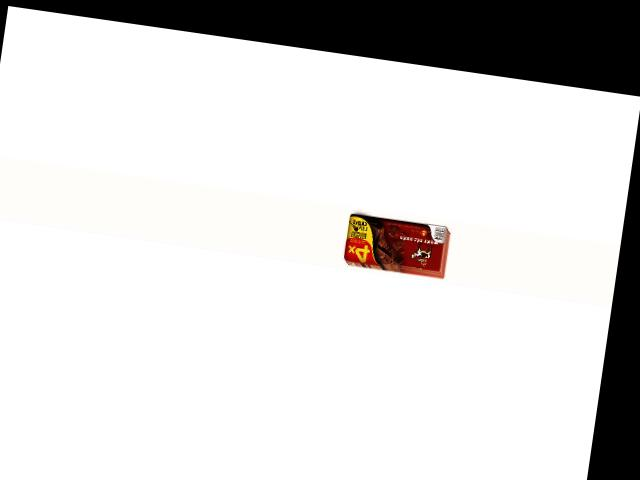chocolate: (341, 210, 449, 278)
